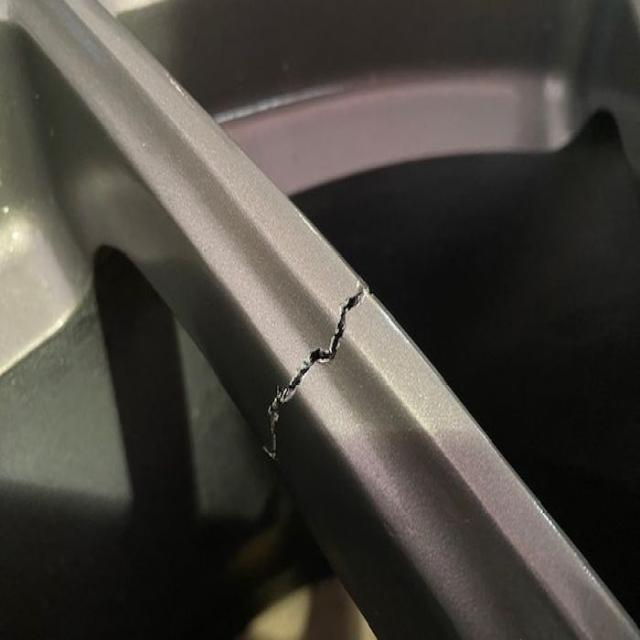Crack: (264, 281, 368, 458)
